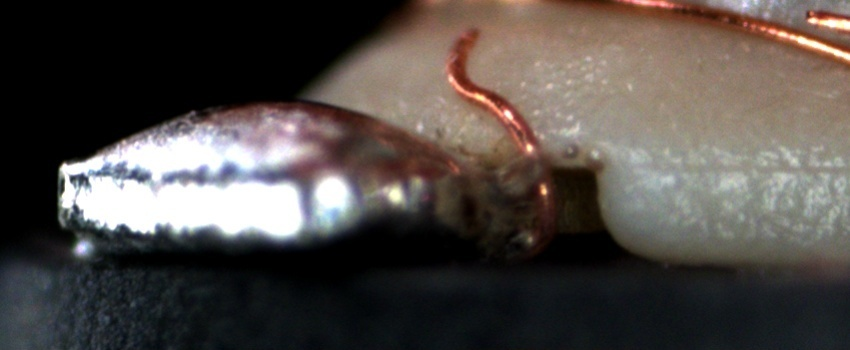DL: (620, 144, 849, 192)
